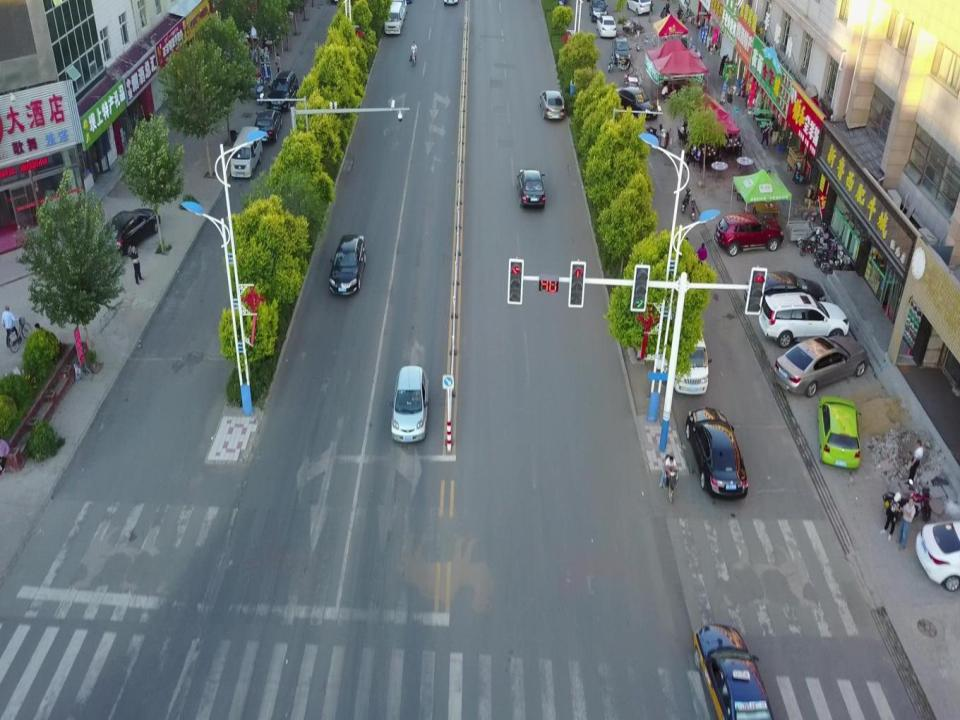car: (692, 624, 775, 720), (772, 332, 870, 398), (686, 406, 748, 500), (757, 290, 850, 349), (743, 269, 827, 315), (818, 394, 864, 469), (97, 208, 161, 257), (713, 213, 783, 256), (390, 366, 428, 442), (329, 234, 366, 296), (612, 86, 658, 120), (266, 70, 299, 110), (516, 168, 546, 208), (254, 107, 282, 144), (538, 90, 565, 121), (611, 37, 631, 64), (596, 15, 617, 40), (588, 0, 608, 23), (625, 0, 653, 15)
van: (666, 309, 712, 396), (229, 125, 263, 180), (383, 1, 406, 37)
